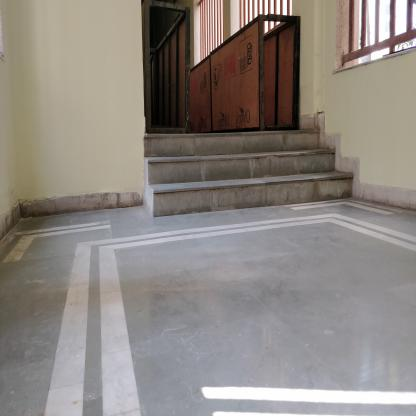stairs: (155, 127, 321, 220)
